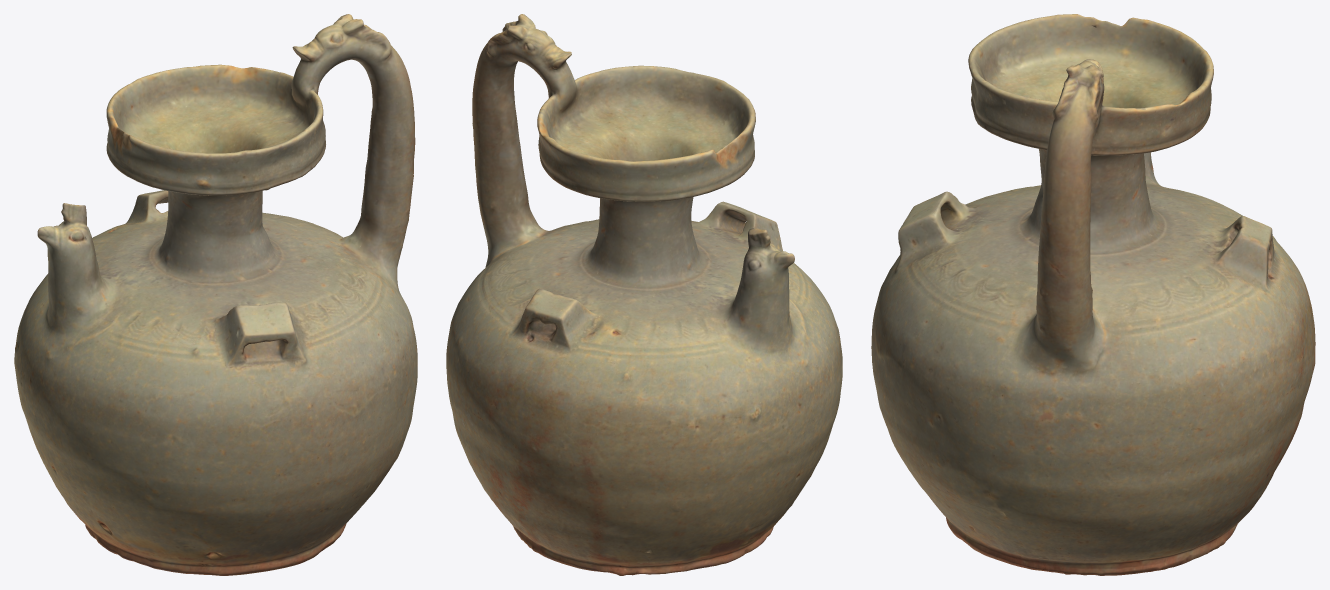
The picture shows the model from 3 angles, left to right: view 1: azimuth 30°, elevation 25°; view 2: azimuth 150°, elevation 25°; view 3: azimuth 270°, elevation 25°; orthographic projection. The views are drawn at different scales.
Visible parts, largest first — view 1: low_1; view 2: low_1; view 3: low_1.
Boxes of the visible parts, <box> form: low_1: <box>14,14,417,575</box>; low_1: <box>446,14,842,575</box>; low_1: <box>871,14,1315,575</box>.
Size of the model in its own units: 156 by 199 by 153.
Materials: 1 (1 with a texture image).
